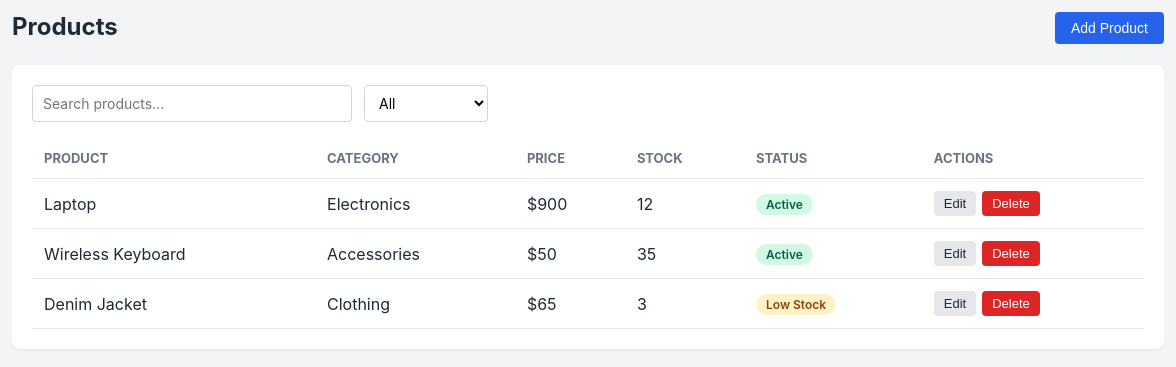
Test: filters products by search
Expected: the text "Laptop" is shown, [32, 178, 315, 228]
Type "lap" into the field with placeholder "Search products..." at (192, 104), box [32, 85, 352, 122]
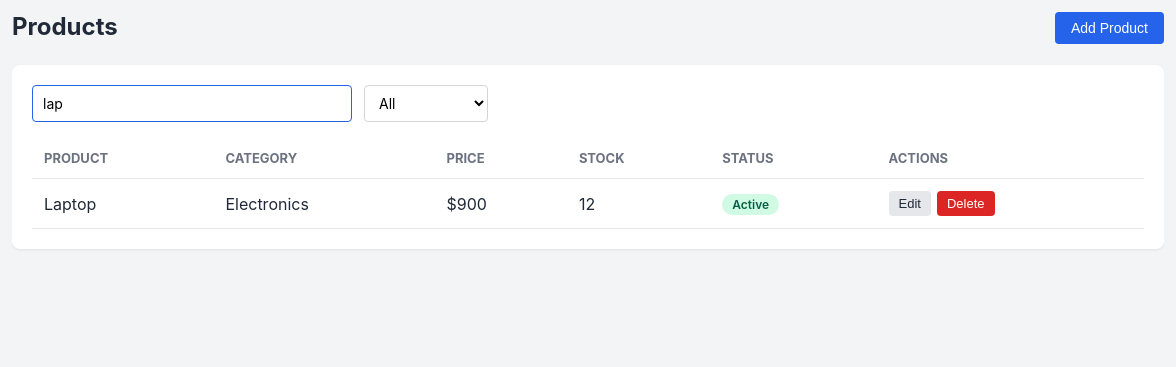
Expected: the text "Laptop" is shown, [32, 178, 213, 228]
Expected: the text "Wireless Keyboard" is gone
Expected: the text "Denim Jacket" is gone
